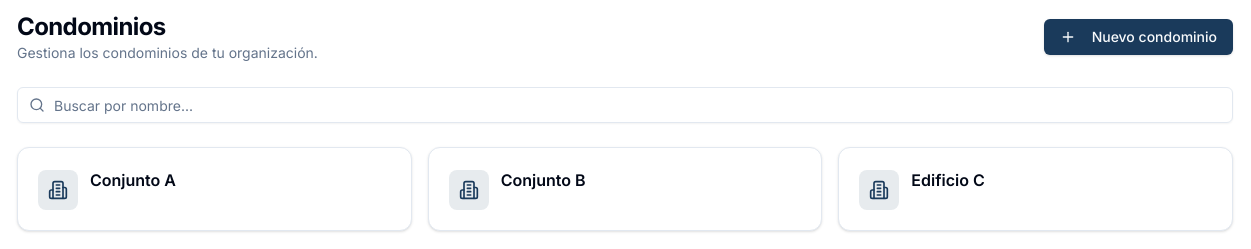
it: CondominiosListPage › la búsqueda filtra los condominios localmente por nombre
The image size is (1251, 249).
In the field with placeholder "Buscar por nombre...": (625, 105) [17,87,1233,123], type "conjunto"
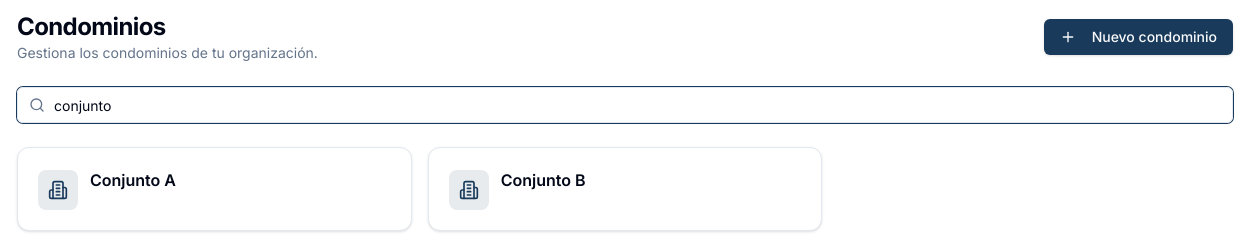
Expected: the heading "Conjunto A" is shown, [90,170,176,190]
Now the button "Edificio C" is gone
